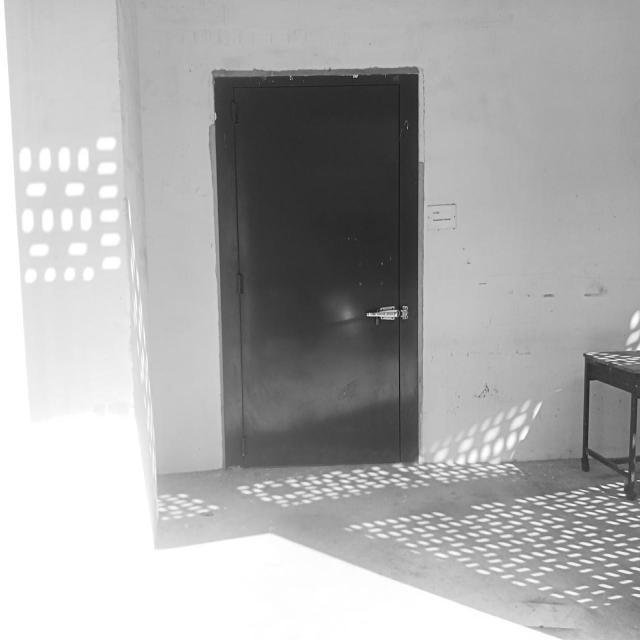door: (215, 74, 422, 470)
